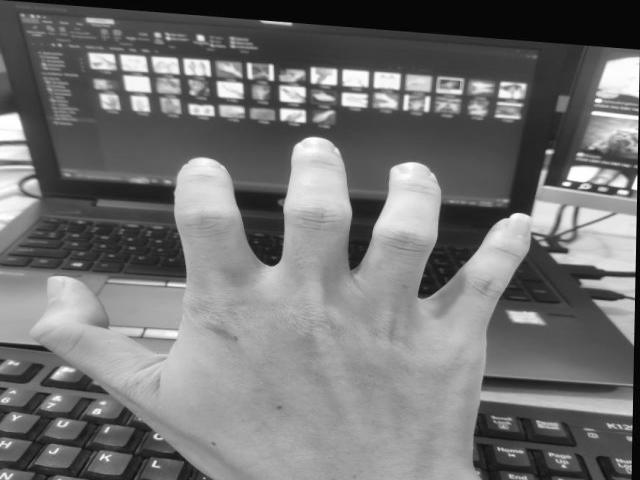not-gloved: (27, 136, 533, 480)
